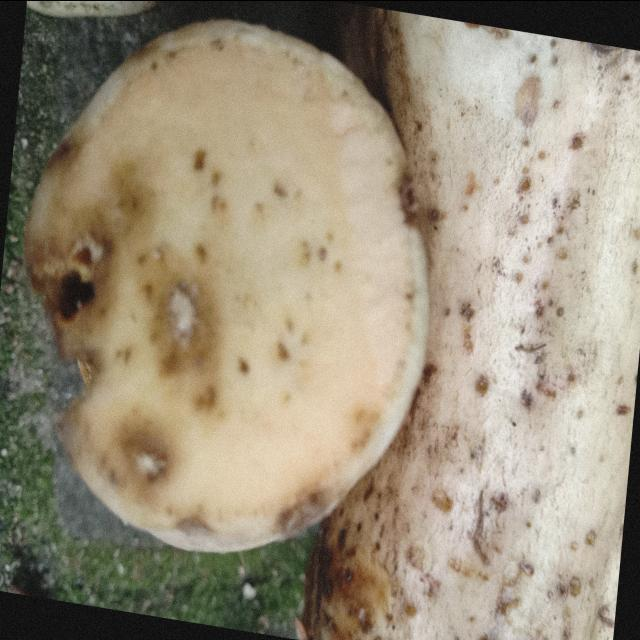Sick Sweet Potato_Tuber Rot: (24, 20, 428, 552)
